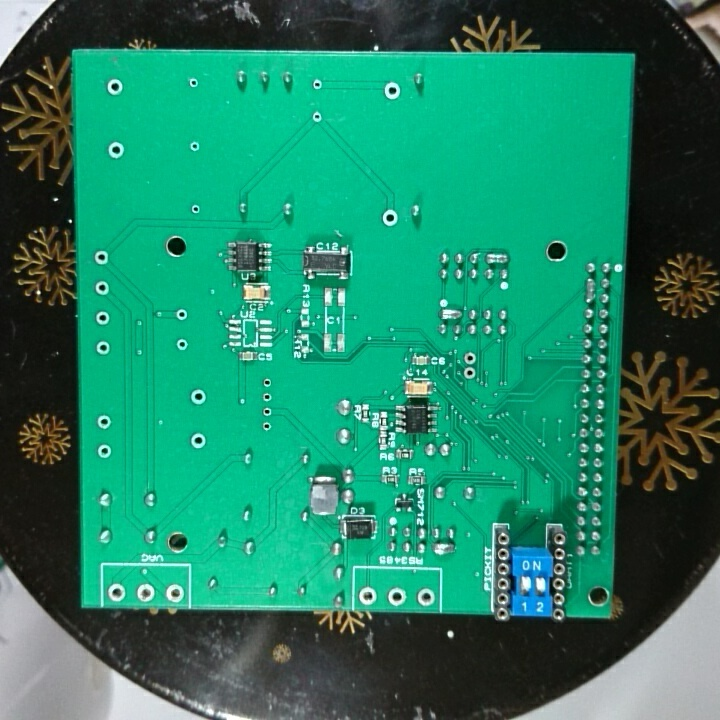F: (134, 580, 157, 606), (105, 580, 128, 604), (380, 80, 403, 103), (385, 585, 408, 608), (162, 582, 185, 604), (189, 429, 209, 454), (415, 586, 437, 608), (188, 387, 210, 409), (105, 139, 127, 160), (105, 77, 126, 98), (380, 206, 399, 229), (357, 586, 377, 606), (95, 440, 114, 461), (92, 248, 111, 268), (93, 338, 112, 358), (93, 278, 111, 299), (95, 413, 114, 432), (94, 309, 113, 327), (173, 335, 191, 352), (185, 75, 202, 92), (460, 366, 478, 382), (258, 389, 275, 405), (258, 403, 275, 419), (462, 350, 477, 366), (259, 374, 275, 389), (258, 418, 274, 433), (187, 138, 201, 155), (310, 108, 323, 126), (310, 77, 325, 92), (174, 306, 187, 323), (188, 203, 203, 216)
P: (430, 540, 458, 557), (485, 249, 511, 267), (437, 306, 464, 322), (582, 275, 596, 305)
